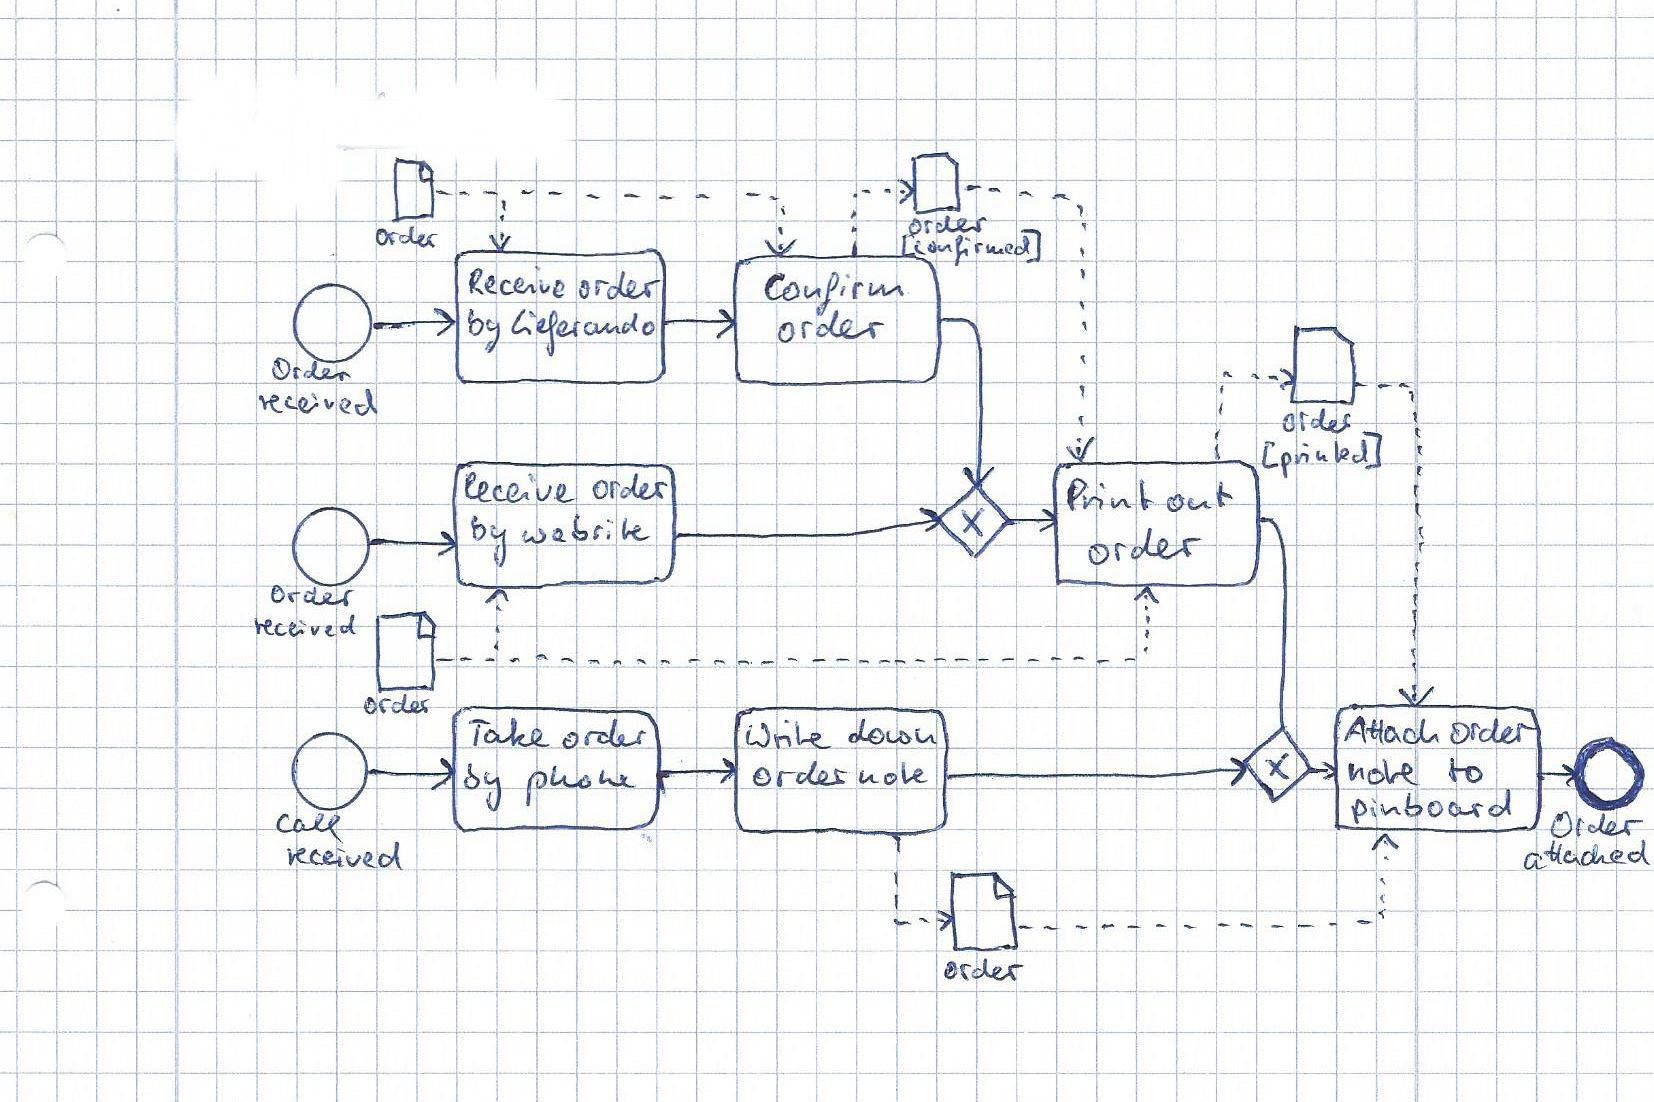Attach: (1343, 716, 1444, 748)
Confirm: (762, 269, 908, 310)
Lieferando: (509, 305, 659, 355)
Order: (1547, 811, 1645, 842), (266, 355, 354, 384), (373, 226, 444, 250)
Print: (1064, 476, 1160, 515)
Receive: (457, 469, 579, 505), (465, 267, 571, 301)
Take: (465, 715, 555, 753)
Write: (742, 718, 830, 754)
[confirmed]: (896, 232, 1043, 262)
[printed]: (1257, 432, 1390, 475)
attached: (1521, 841, 1652, 872)
by: (459, 756, 509, 820), (465, 514, 516, 569), (462, 303, 505, 355)
call: (275, 811, 342, 839)
down: (844, 718, 940, 751)
note: (1344, 756, 1434, 790), (855, 760, 928, 790)
order: (1086, 528, 1200, 569), (774, 312, 885, 347), (749, 758, 853, 793), (560, 719, 651, 753), (576, 271, 662, 305), (587, 472, 671, 505), (1446, 717, 1532, 748), (268, 583, 357, 610), (905, 213, 989, 240), (942, 958, 1024, 985), (1280, 407, 1359, 435), (360, 694, 435, 718)
out: (1162, 481, 1235, 515)
phone: (523, 766, 638, 804)
pinboard: (1349, 786, 1517, 828)
received: (257, 387, 382, 419), (285, 841, 406, 874), (248, 612, 362, 636)
to: (1442, 756, 1487, 788)
website: (520, 514, 653, 551)
